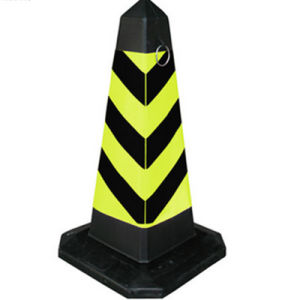blackC: (36, 1, 233, 300)
